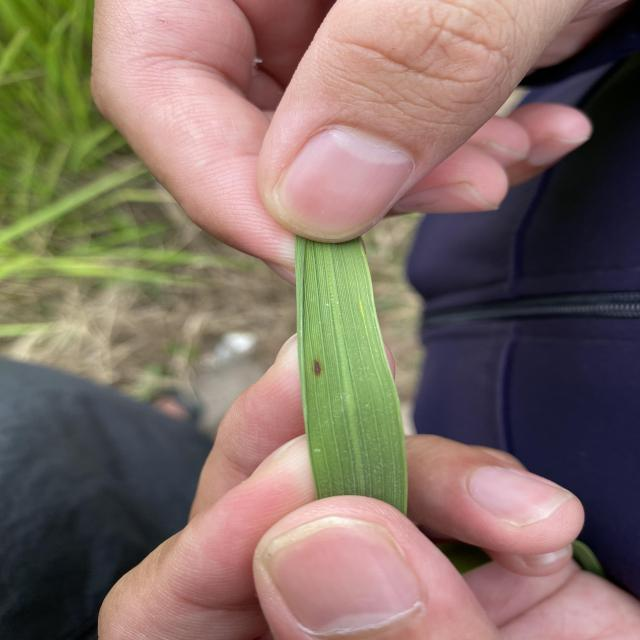Dom nau: (313, 359, 323, 378)
